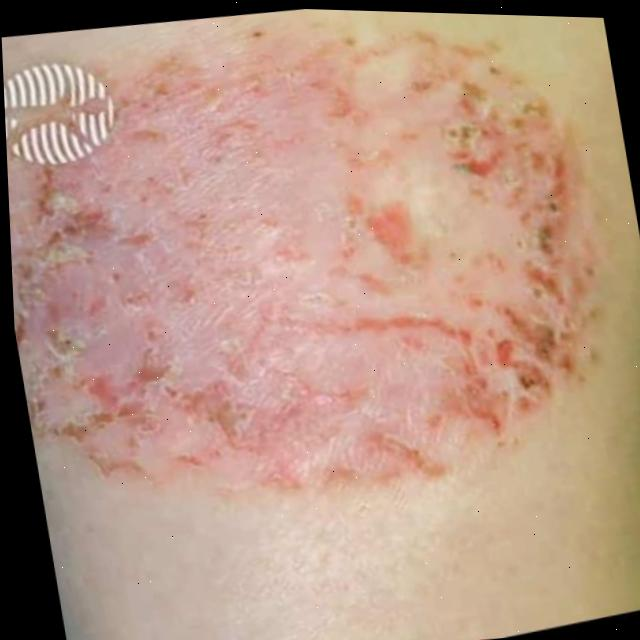Eczema: (0, 0, 633, 528)
